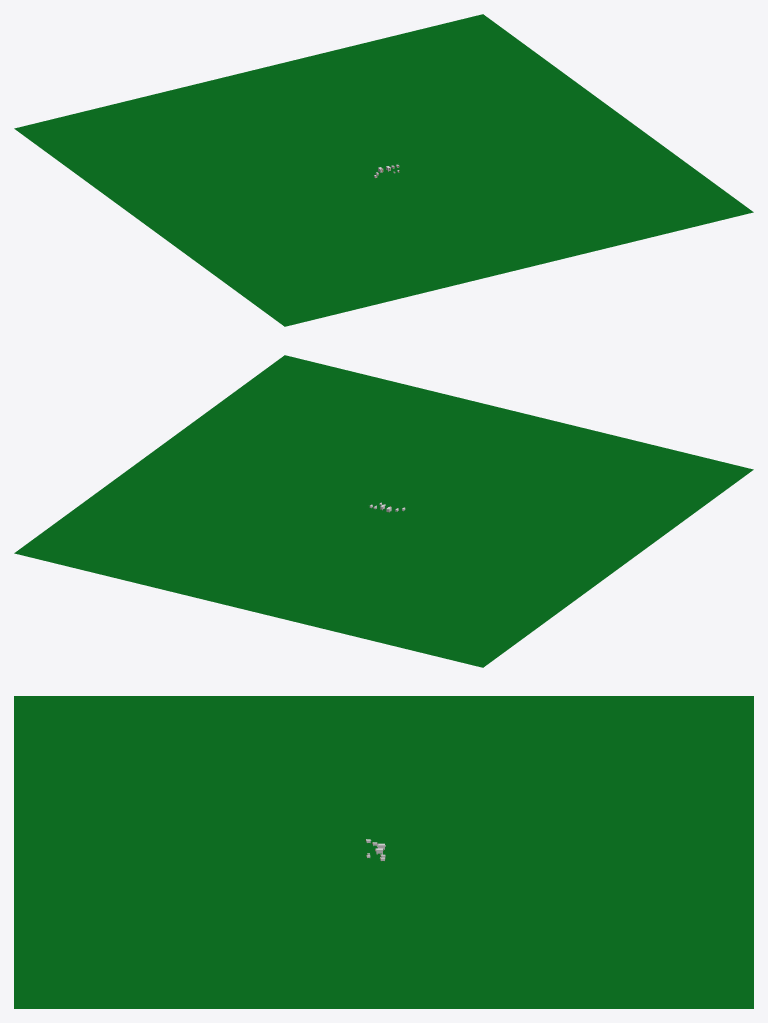
3 renders of one model, top to bottom at view 1: azimuth 30°, elevation 25°; view 2: azimuth 150°, elevation 25°; view 3: azimuth 270°, elevation 25°, orthographic. The views are drawn at different scales.
Parts seen in each view (by area): view 1: Plane; view 2: Plane; view 3: Plane.
Boxes of the visible parts, <box> form: Plane: <box>14,14,753,326</box>; Plane: <box>14,355,753,667</box>; Plane: <box>14,696,753,1008</box>.
Bounding box in the file's own units: 52255 × 561 × 52255.
